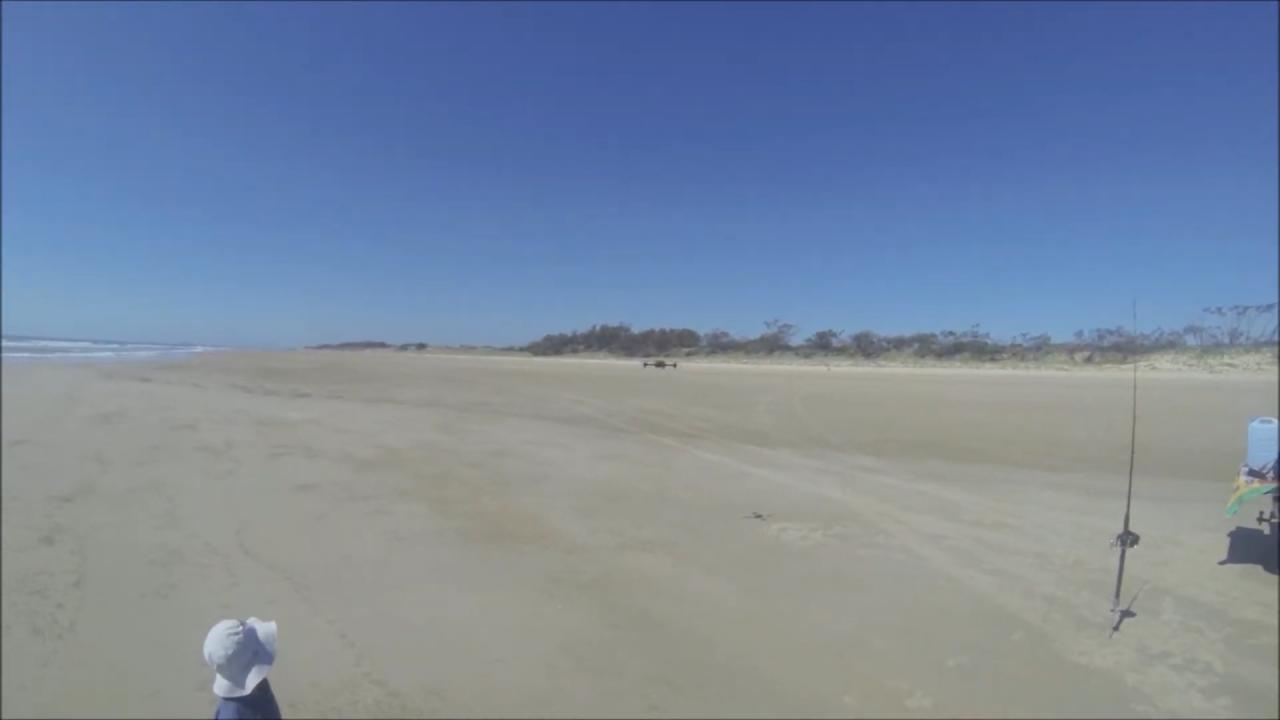Drone: (632, 354, 687, 378)
